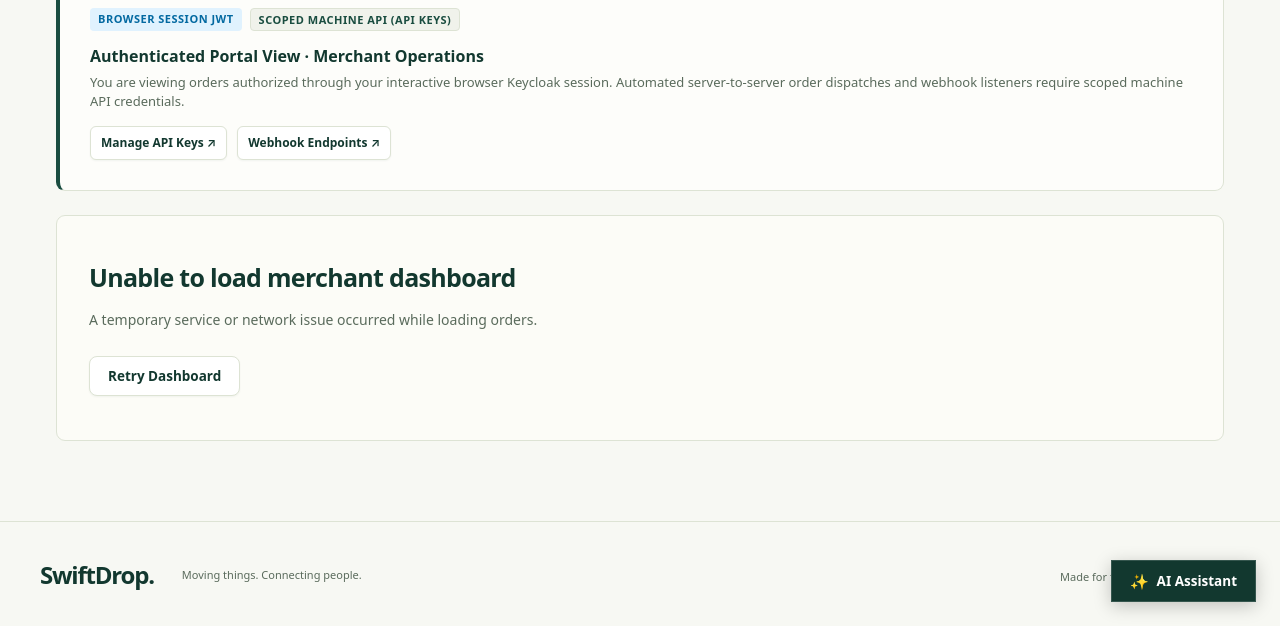
it: MerchantOrdersDashboardPage › handles provider failure with working retry button
The width and height of the screenshot is (1280, 626).
(page scrolled)
Expected: the message shows "Unable to load merchant dashboard", [89,260,516,294]
Click the button "Retry Dashboard". click: {"x": 165, "y": 376}
box: [89,356,240,396]
(page scrolled)
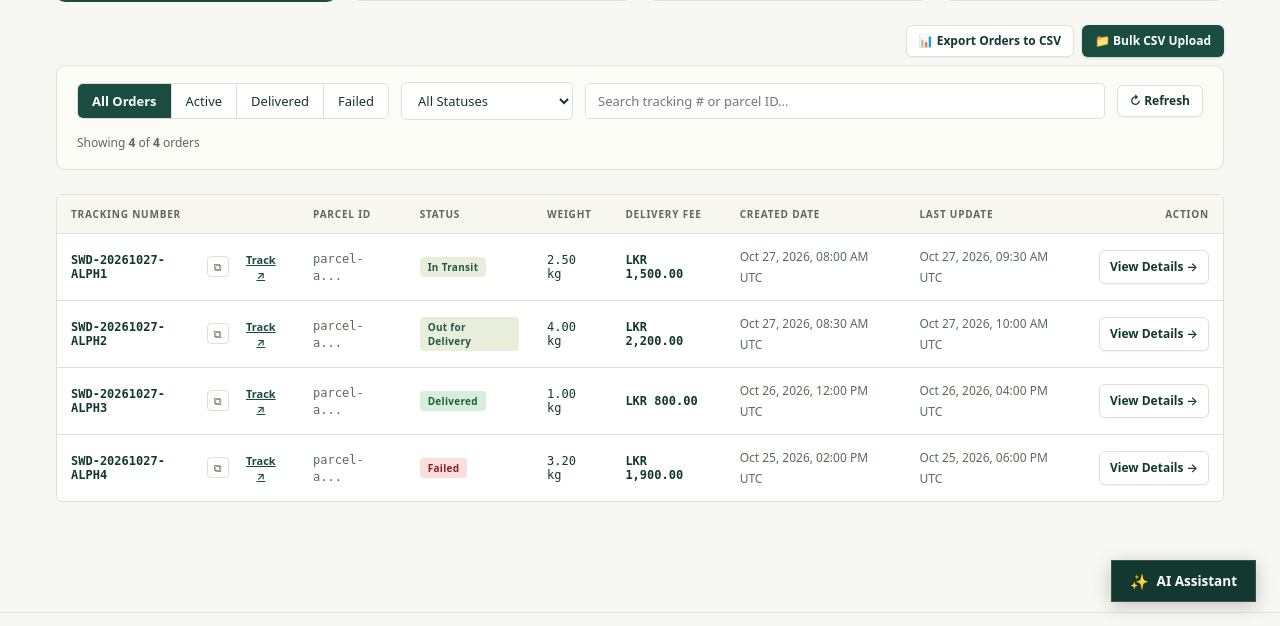
Expected: the text "SWD-20261027-ALPH1" is shown, [71,253,165,281]
